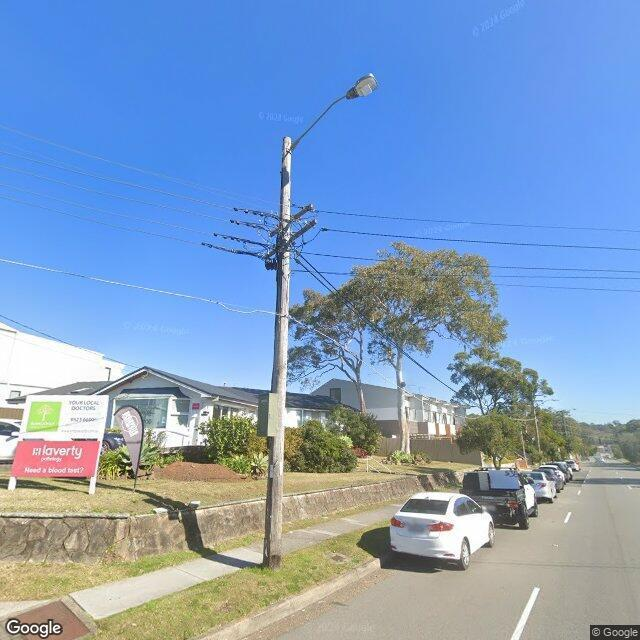crossarm: (266, 220, 318, 258), (268, 204, 311, 238)
streetlight: (287, 72, 379, 155), (534, 399, 560, 409)
timber-pole: (263, 135, 292, 567), (532, 398, 541, 452)
